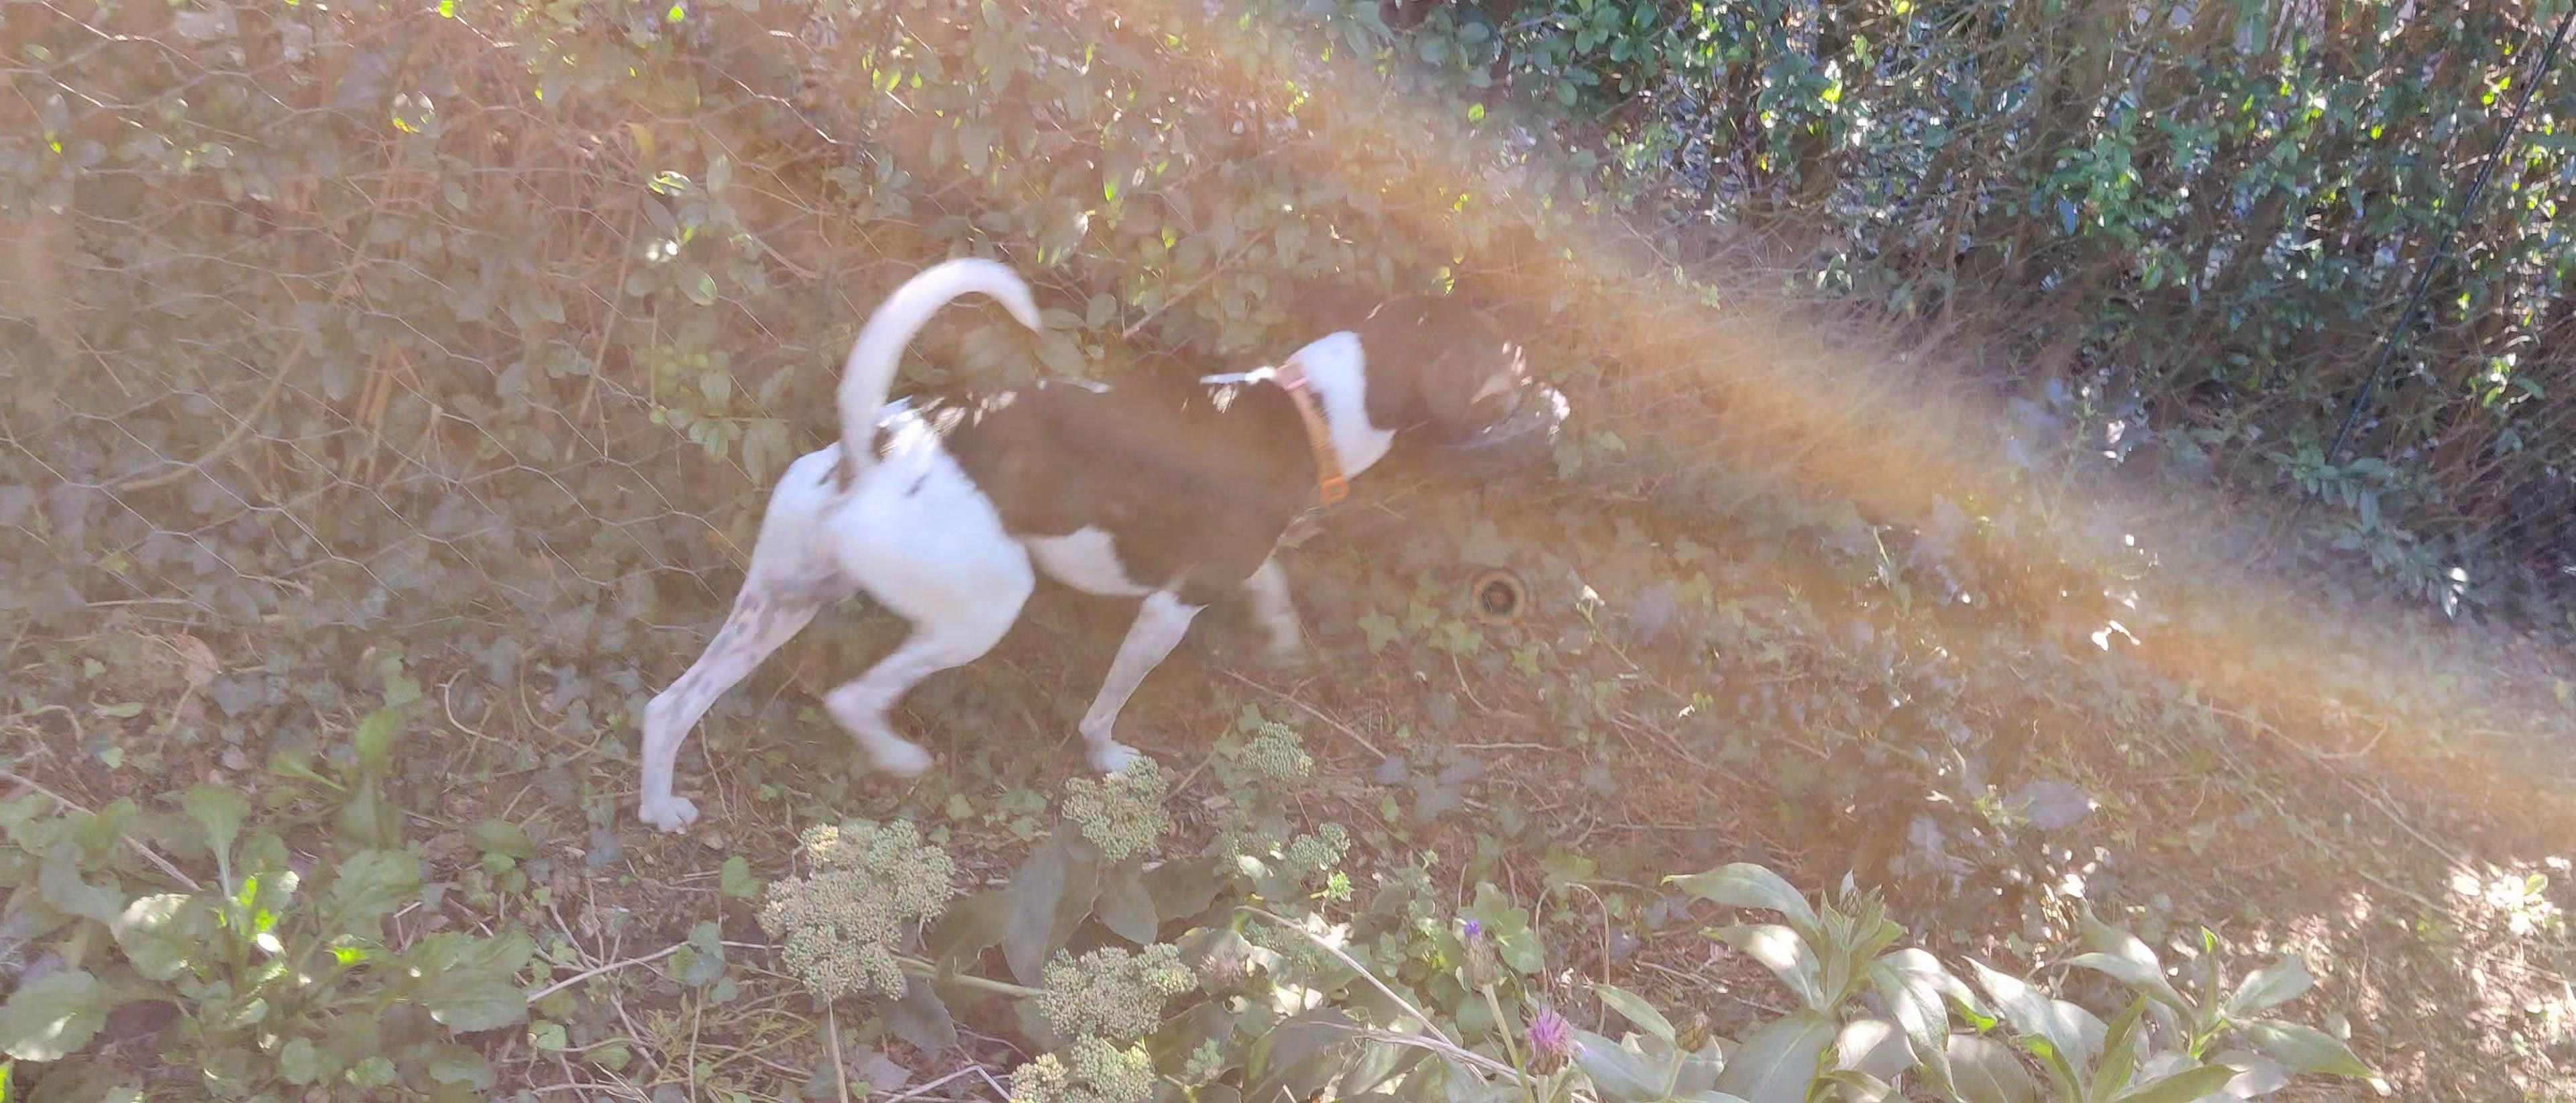Dog: (624, 248, 1539, 840)
